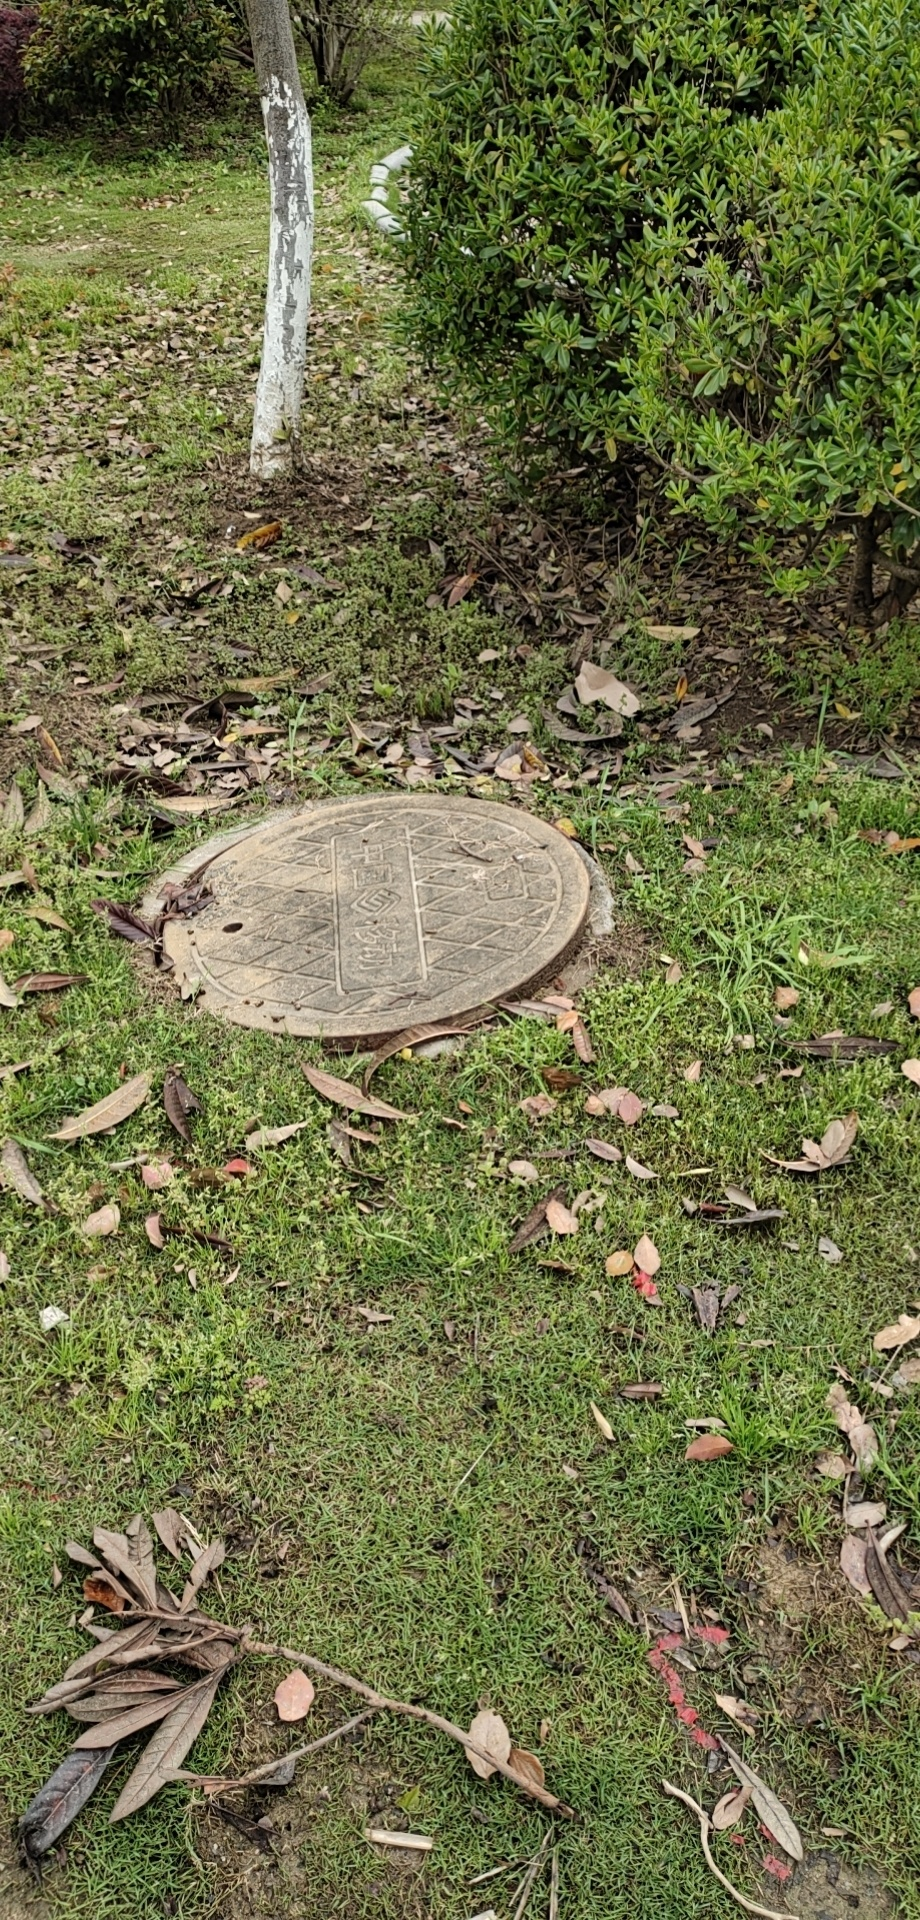uncovered: (134, 800, 619, 1051)
